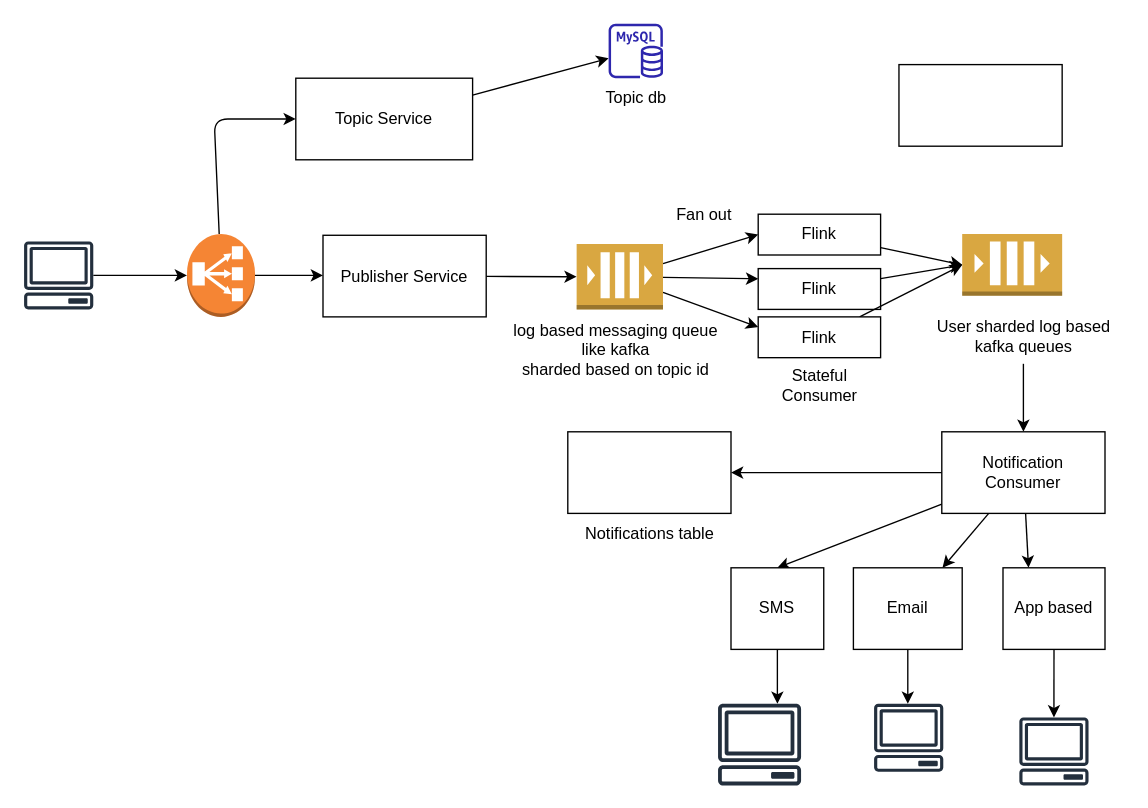
Image size: 1148x808. Some labels were removed from this diagram. Each missing label, with the centre of its shape:
"Hbase" belongs at (648,471).
"Zookeeper" belongs at (980,104).
